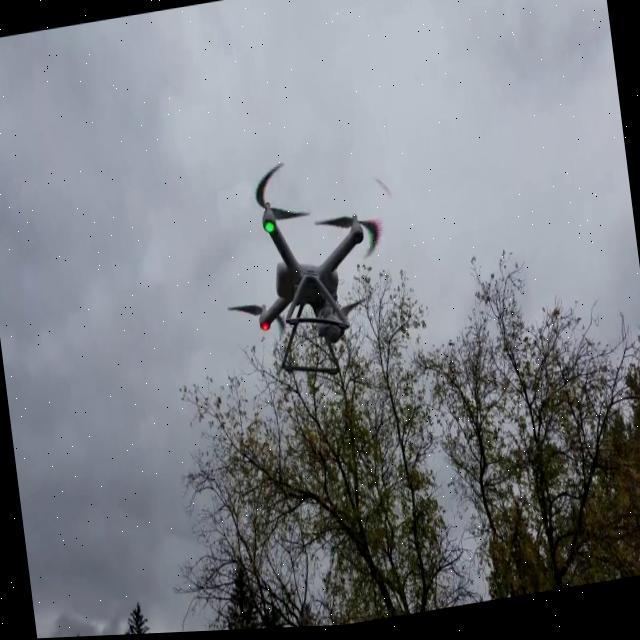drone: (11, 329, 640, 640)
